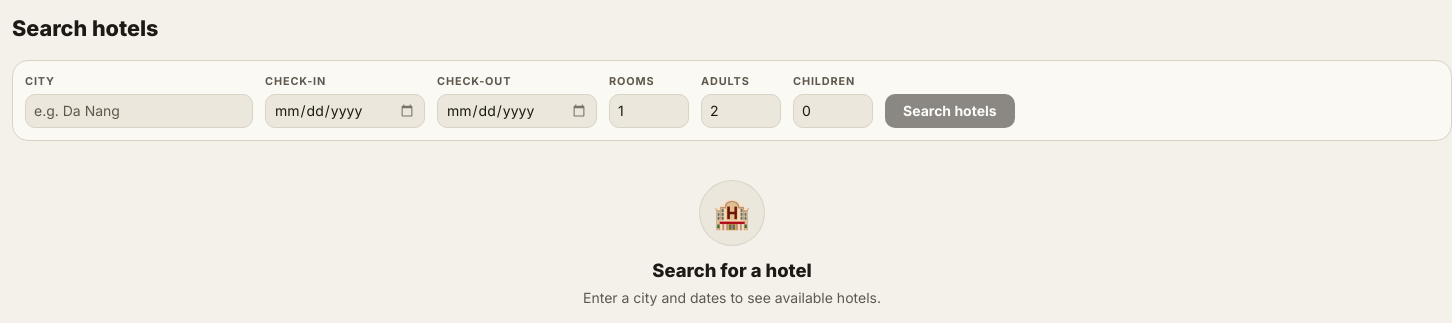
Test: HotelsPage › shows an error state when the search fails
In the field labelled "City": [139, 111] box x1=25 y1=94 x2=253 y2=128, type "Da Nang"
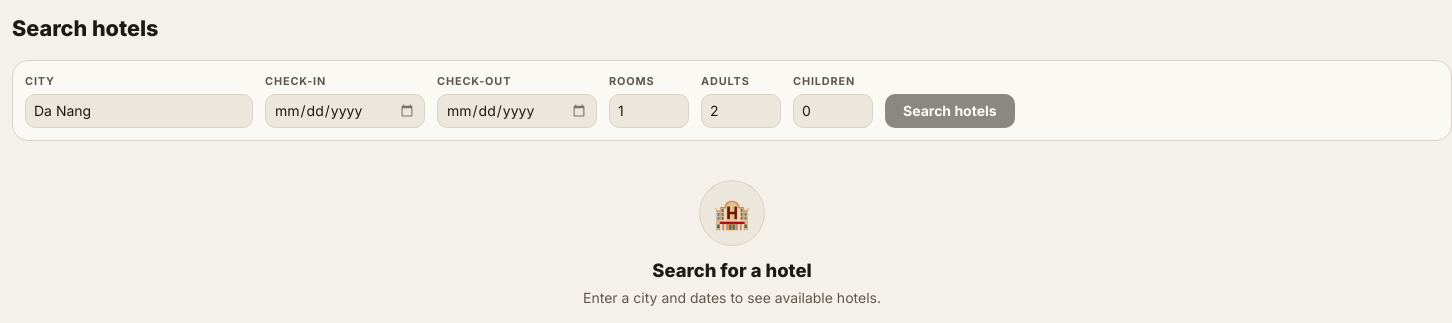
In the date field labelled "Check-in": [345, 111] box x1=265 y1=94 x2=425 y2=128, type "2026-06-01"
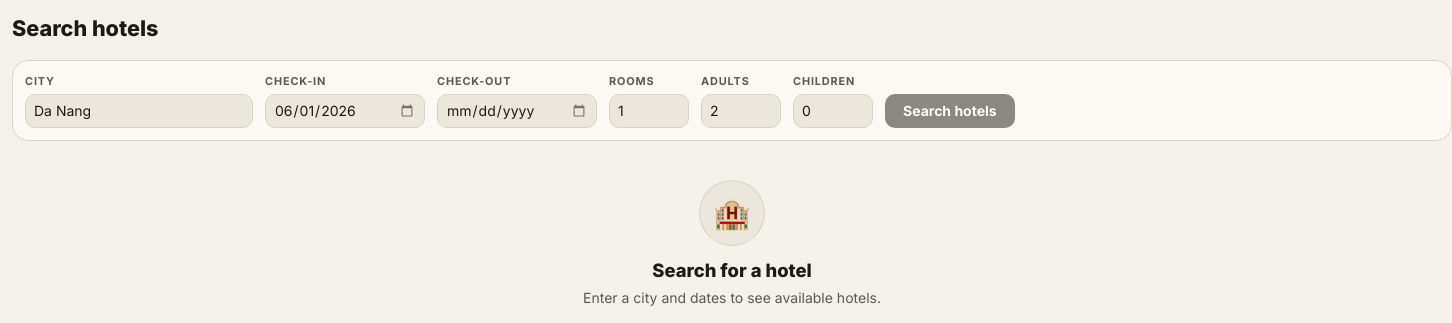
In the date field labelled "Check-out": [517, 111] box x1=437 y1=94 x2=597 y2=128, type "2026-06-03"
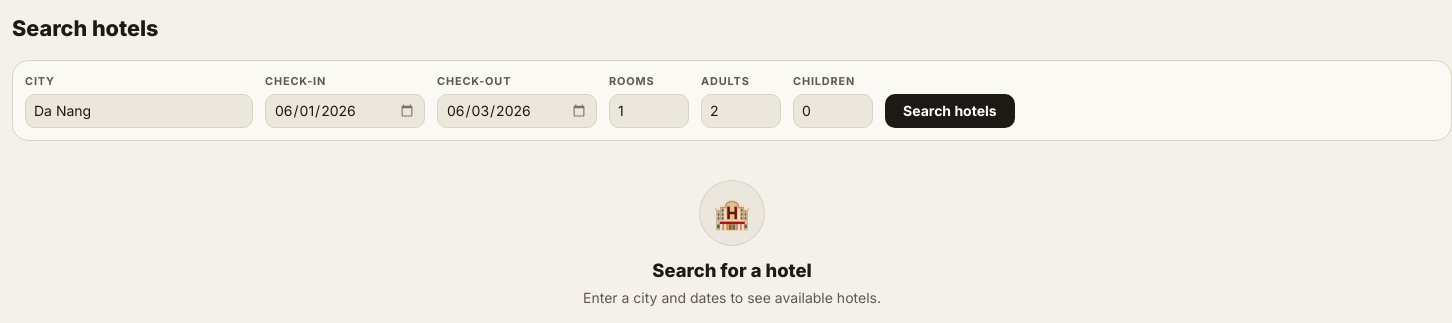
Click the button "Search hotels": [950, 111] box x1=885 y1=94 x2=1015 y2=128
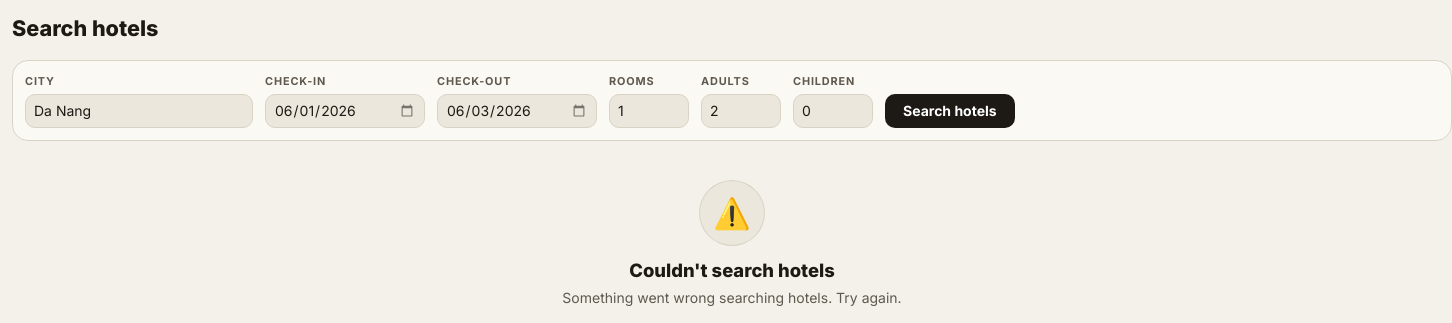
expect the text "Couldn't search hotels" is shown: met, box x1=629 y1=259 x2=835 y2=281
